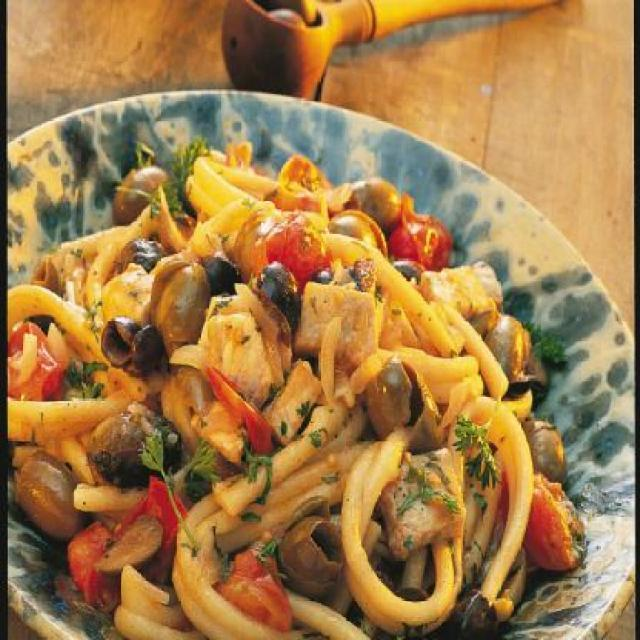Pasta al ragu: (23, 121, 571, 610)
